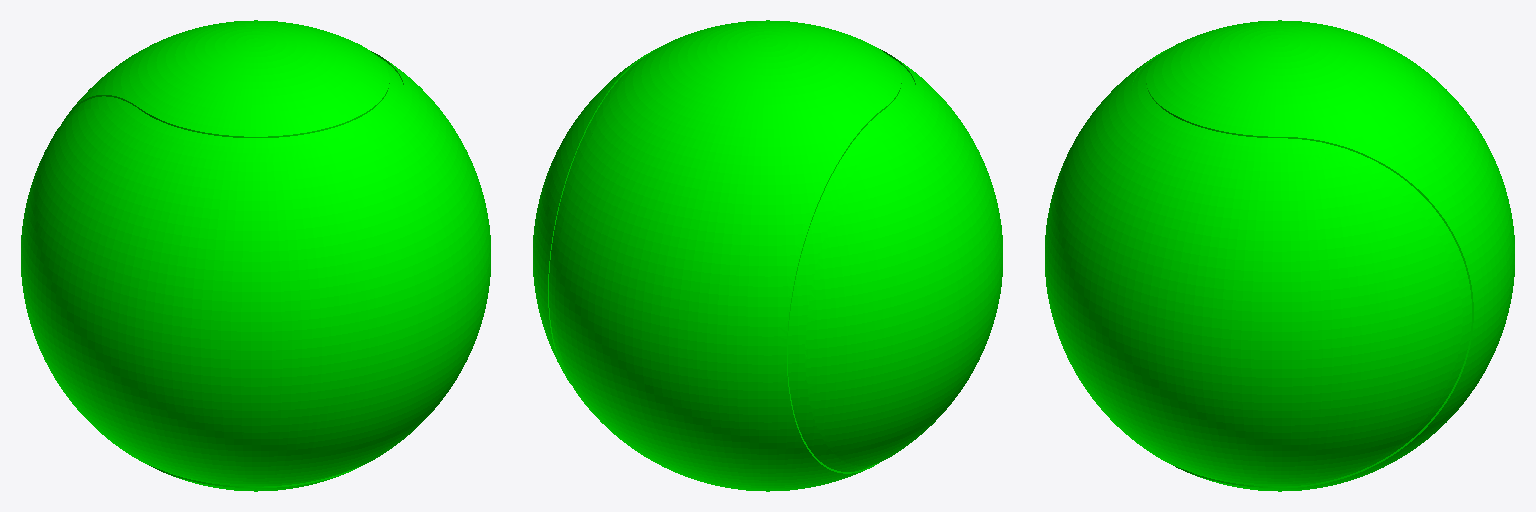
The robot description file, URDF, robot "ball":
<?xml version="1.0"?>
<robot name="ball">

  <link name="sphere">

    <!-- Inertial properties -->
    <inertial>
      <origin xyz="0 0 0" rpy="0 0 0"/>
      <mass value="0.5"/>
      <inertia ixx="0.01" ixy="0.0" ixz="0.0"
               iyy="0.01" iyz="0.0"
               izz="0.01"/>
    </inertial>

    <!-- Visual representation -->
    <visual>
      <origin xyz="0 0 0" rpy="0 0 0"/>
      <geometry>
        <mesh filename="package://your_package/meshes/ball.stl" scale="0.005 0.005 0.005"/>
      </geometry>
      <material name="green">
        <color rgba="0.0 1.0 0.0 1.0"/>
      </material>
    </visual>

    <!-- Collision properties -->
    <collision>
      <origin xyz="0 0 0" rpy="0 0 0"/>
      <geometry>
        <mesh filename="package://your_package/meshes/ball.stl" scale="0.005 0.005 0.005"/>
      </geometry>
    </collision>

  </link>

</robot>

--- Render facts (derived) ---
The picture shows the robot from 3 angles, left to right: view 1: azimuth 30°, elevation 25°; view 2: azimuth 150°, elevation 25°; view 3: azimuth 270°, elevation 25°; orthographic projection.
Robot: ball — 1 links, 0 joints (none); root link sphere; default pose: all joints at 0.
Visible links, largest first — view 1: sphere; view 2: sphere; view 3: sphere.
Boxes of the visible links, x1,y1,x2,y2 form: sphere: (21,20,490,491); sphere: (533,20,1002,491); sphere: (1045,20,1514,491).
Size in the robot's own frame: 0.1586 by 0.1586 by 0.1586 metres.
1 mesh visuals loaded from 1 distinct referenced files (1 binary STL).
